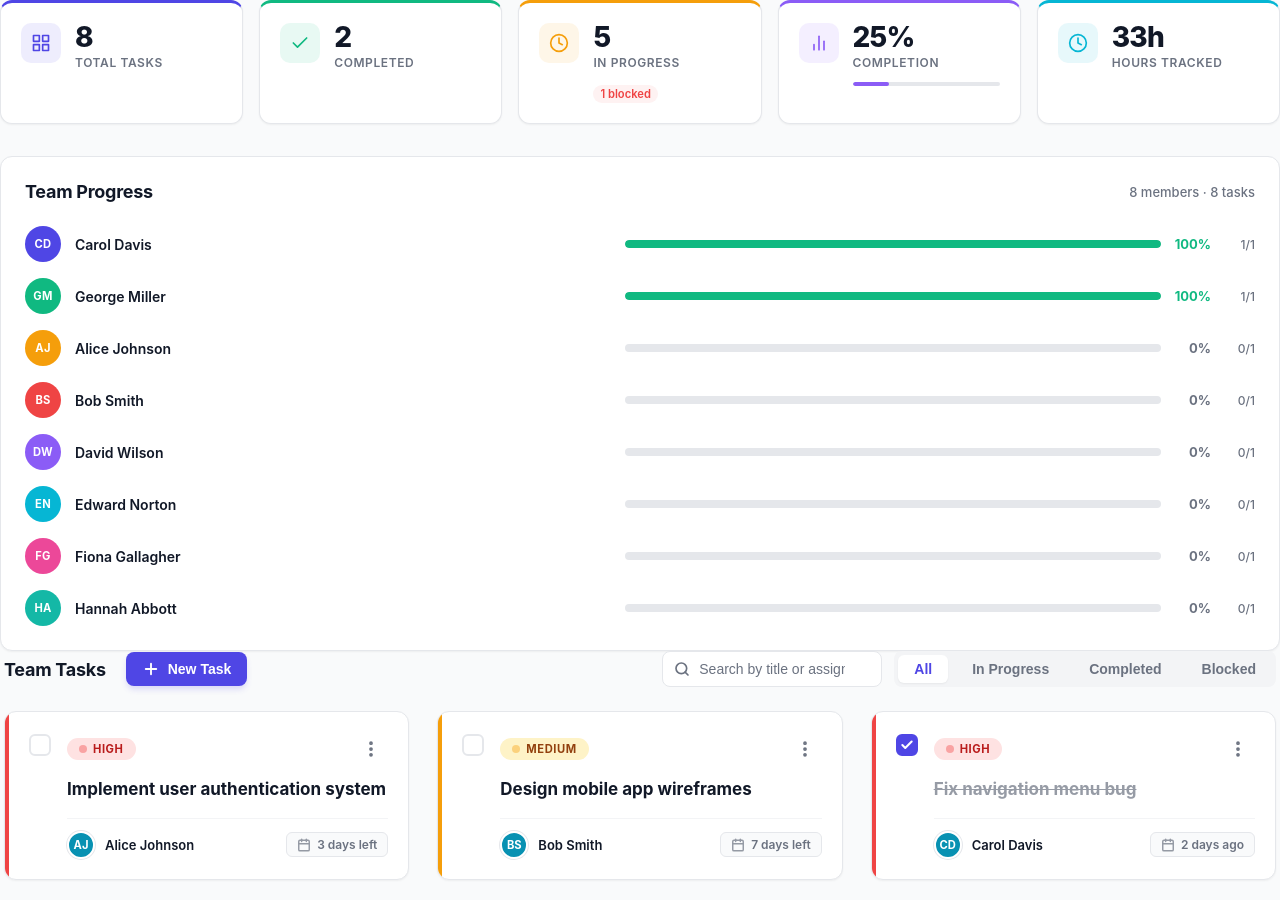
Test: TeamProgressChart – integration with TaskListView › chart updates when a task is checked off
Expected: the list item with aria-label "alice johnson: 0 of 1 tasks completed (0%)" is shown, x1=25 y1=330 x2=1255 y2=366
Click the button named "mark \"implement user authentication system\" as complete" at (40, 745), box x1=29 y1=734 x2=51 y2=756
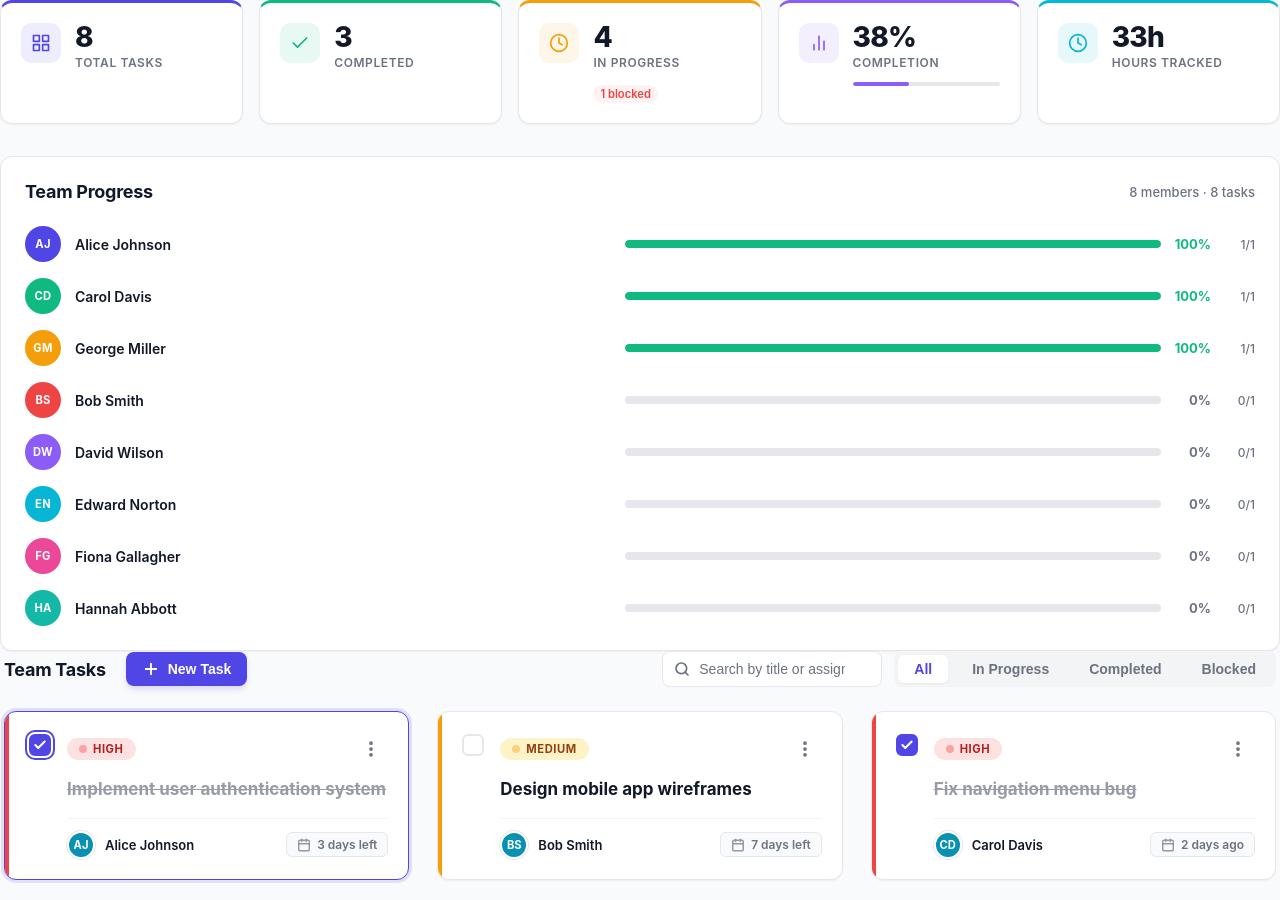
Result: the list item with aria-label "alice johnson: 1 of 1 tasks completed (100%)" is shown at x1=25 y1=226 x2=1255 y2=262
